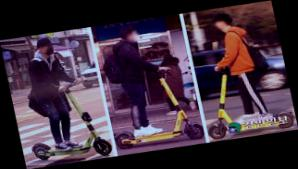nonhelmet: (185, 6, 298, 141), (93, 18, 205, 151), (9, 31, 115, 166)
